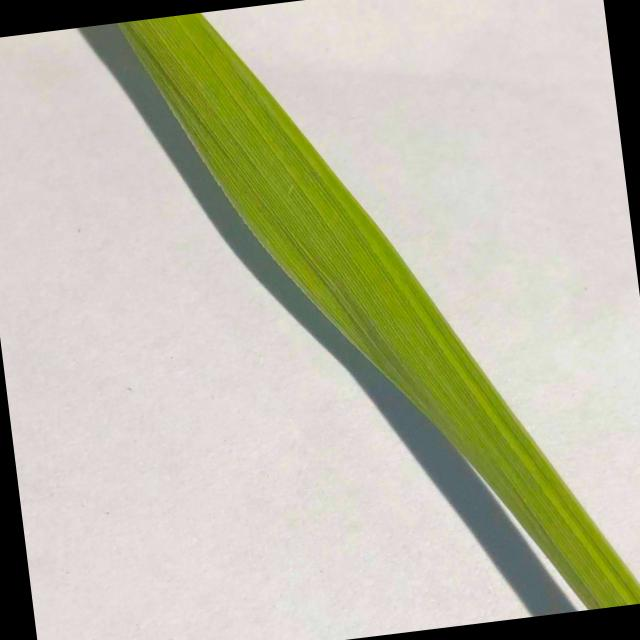Rice_Healthy: (118, 12, 640, 609)
